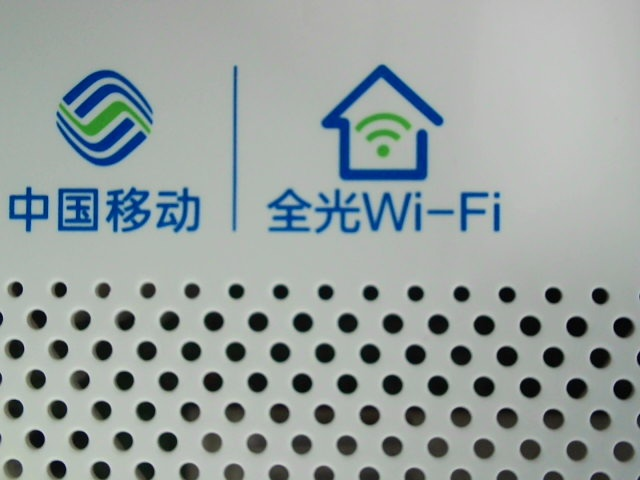BJ_QuanGuangMobile: (4, 66, 504, 236)
